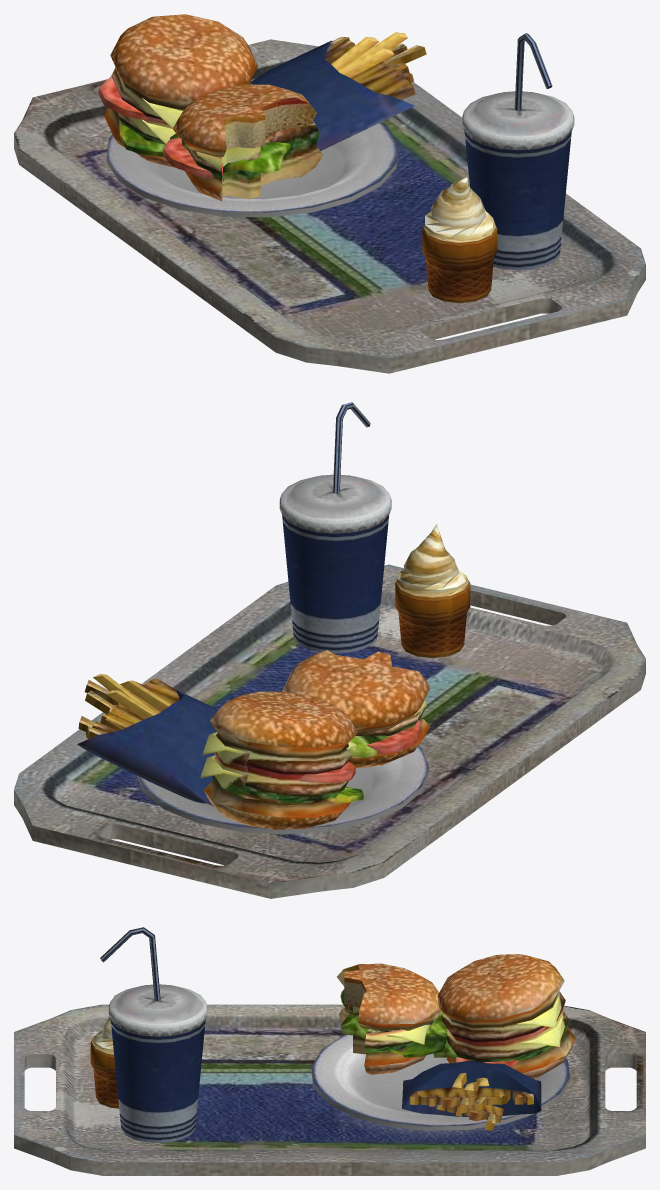
The model's file is chutfood.glb.
3 renders of one model, top to bottom at view 1: azimuth 30°, elevation 25°; view 2: azimuth 150°, elevation 25°; view 3: azimuth 270°, elevation 25°, orthographic. The views are drawn at different scales.
Parts seen in each view (by area): view 1: burgerdish01_obj_uni12_ag; view 2: burgerdish01_obj_uni12_ag; view 3: burgerdish01_obj_uni12_ag.
Boxes of the visible parts, bbox=[...] form: burgerdish01_obj_uni12_ag: bbox=[14, 14, 645, 373]; burgerdish01_obj_uni12_ag: bbox=[14, 402, 645, 898]; burgerdish01_obj_uni12_ag: bbox=[14, 927, 645, 1175].
Bounding box in the file's own units: 40.2 × 24.82 × 67.98.
1 material, 1 textured.
